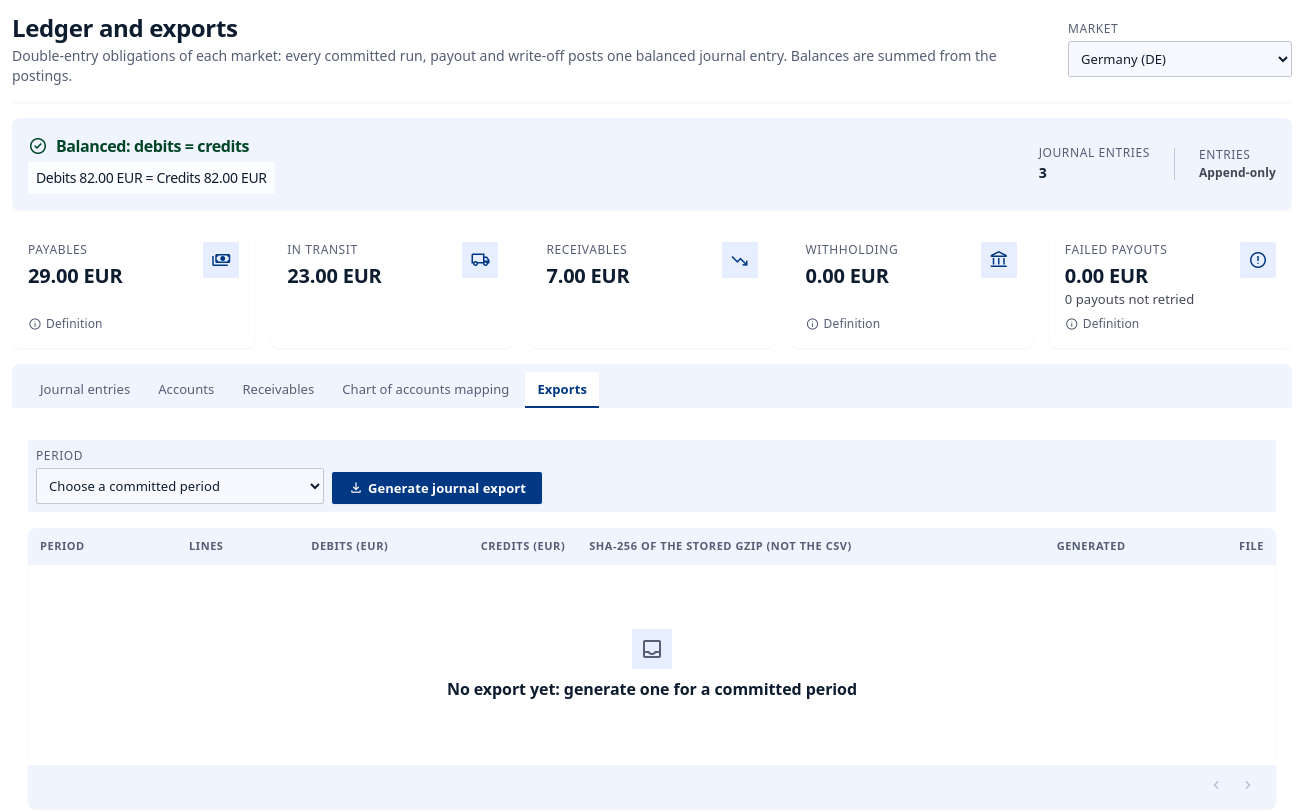
Test: LedgerPage (SC-33) › generates an export of a paid period with an Idempotency-Key and words GL_MAPPING_MISSING
Select "Aug 1, 2026 – Aug 31, 2026" in the dropdown labelled "Period" at (180, 486), box [36,468,324,504]
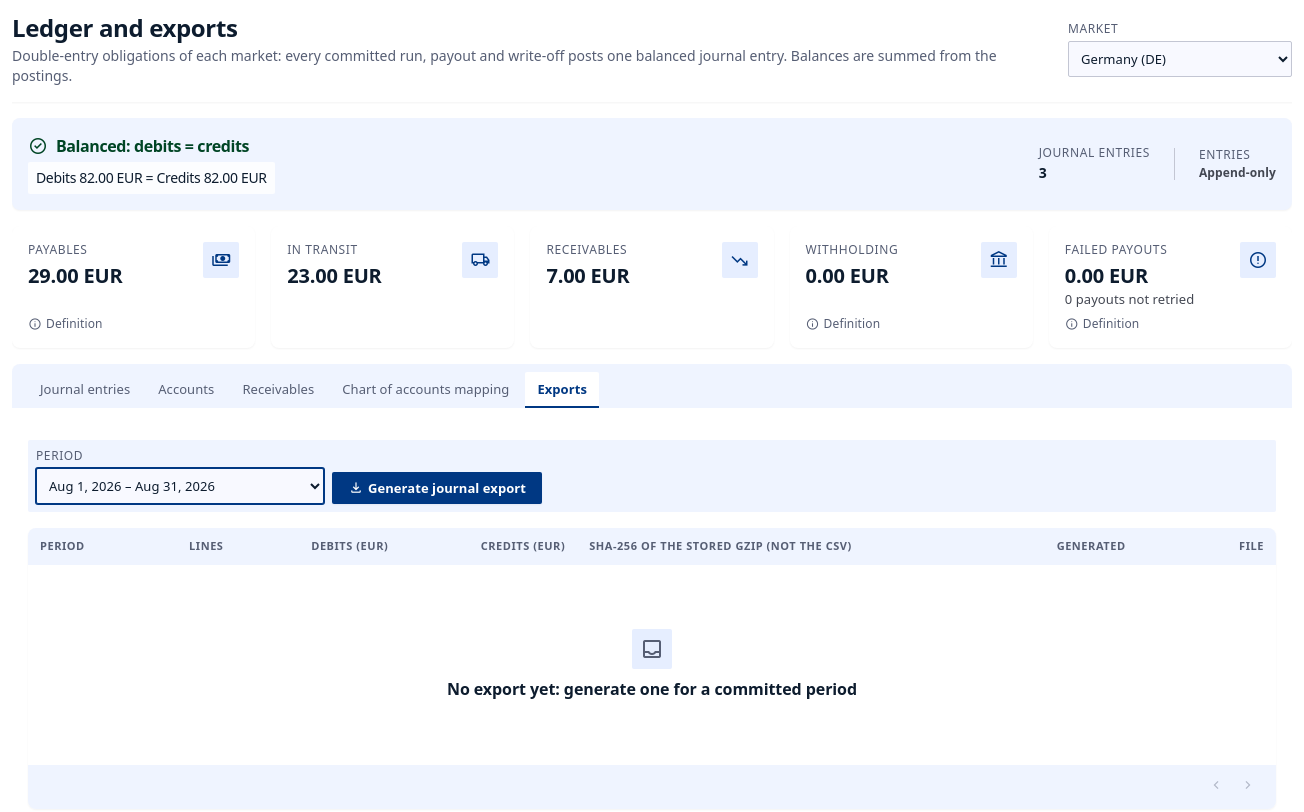
Click the button "Generate journal export" at (437, 488), box [332,472,542,504]
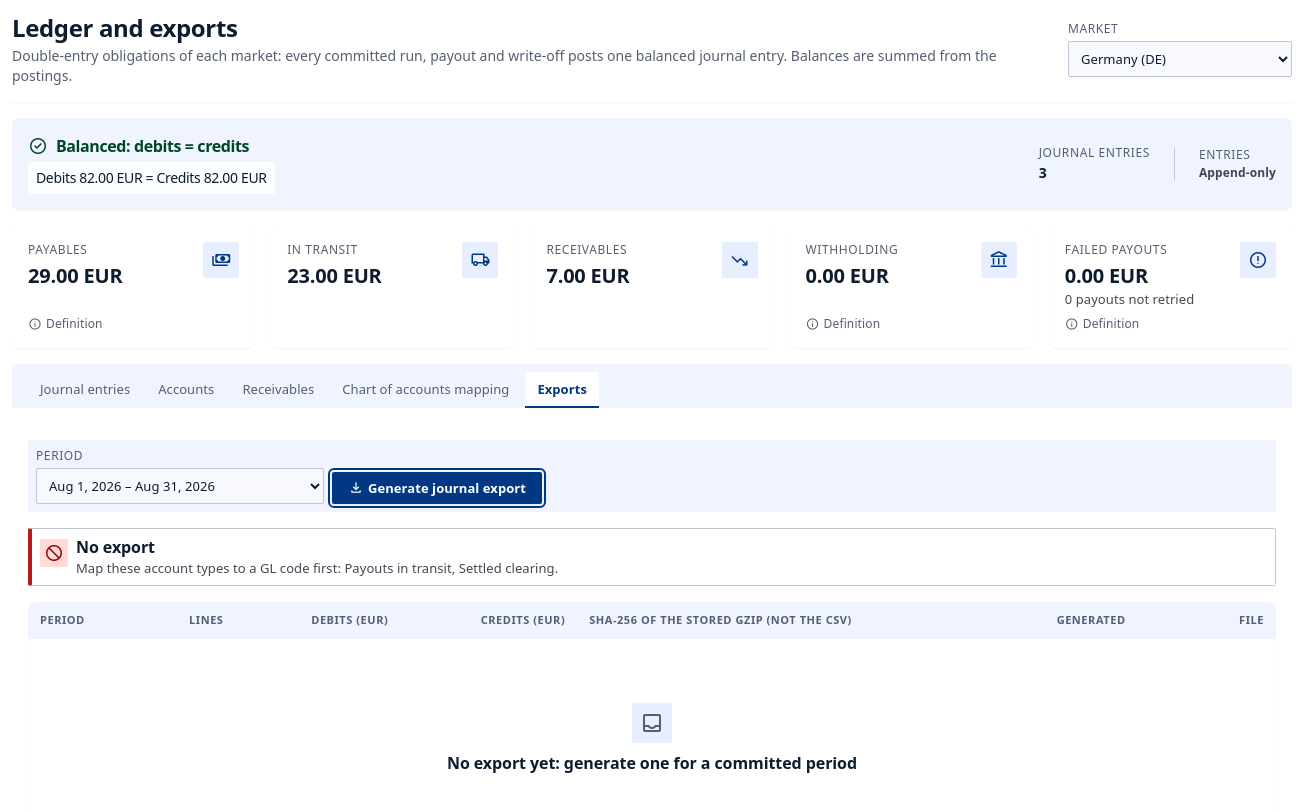
Now the text "Map these account types to a GL code first: Payouts in transit, Settled clearing." is shown, box [76,559,558,577]
